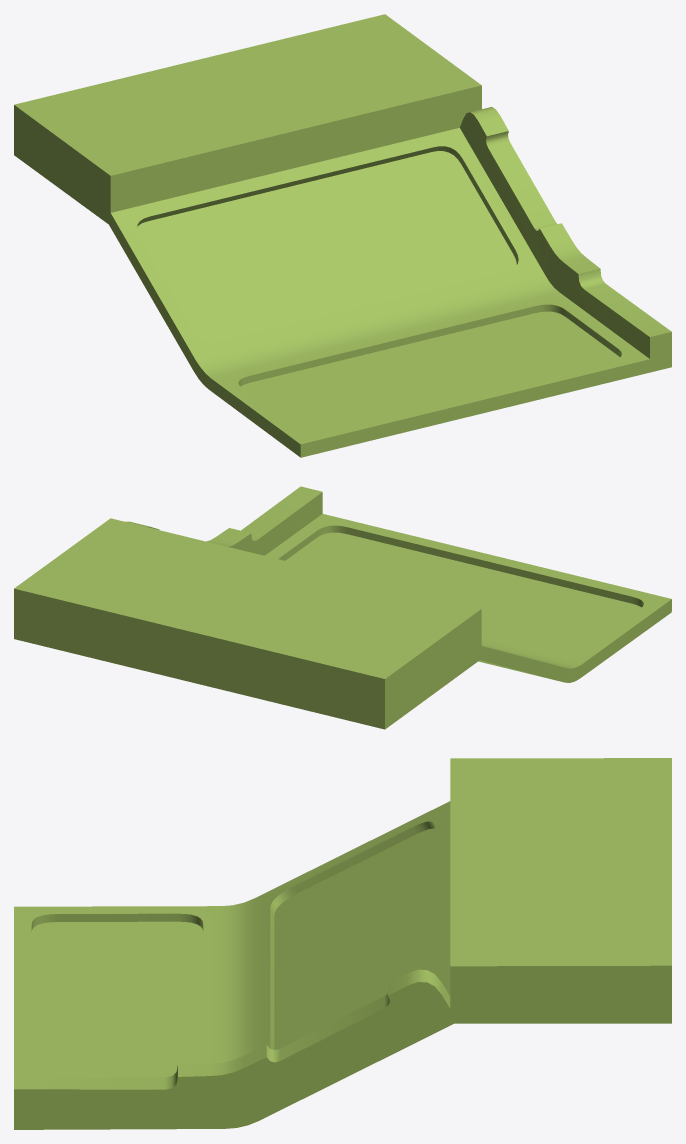
Rendered from UnderFloor_A_Big.FBX.
3 views of the same model, one above another, from view 1: azimuth 30°, elevation 25°; view 2: azimuth 150°, elevation 25°; view 3: azimuth 270°, elevation 25° (orthographic). The views are drawn at different scales.
Visible parts, largest first — view 1: UnderFloor_A_Big; view 2: UnderFloor_A_Big; view 3: UnderFloor_A_Big.
Boxes of the visible parts, bbox=[...] form: UnderFloor_A_Big: bbox=[14, 14, 671, 457]; UnderFloor_A_Big: bbox=[14, 486, 671, 729]; UnderFloor_A_Big: bbox=[14, 758, 671, 1129].
Bounding box in the file's own units: 300 × 111 × 402.
